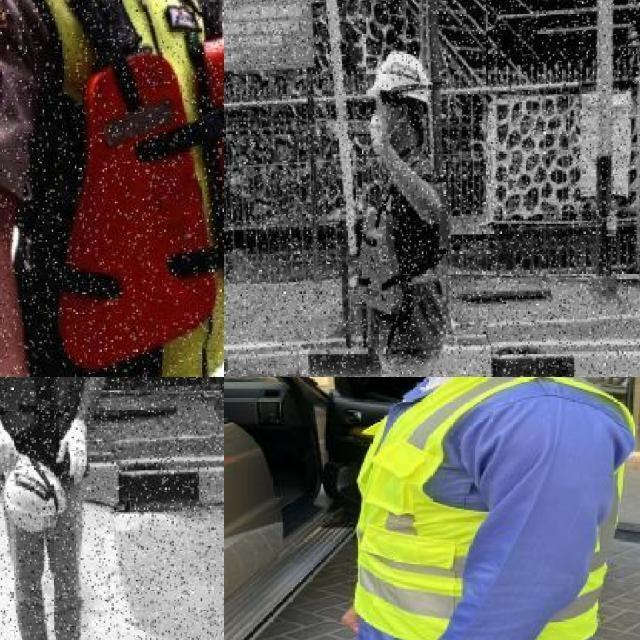apron: (56, 419, 92, 484), (0, 418, 18, 471)
